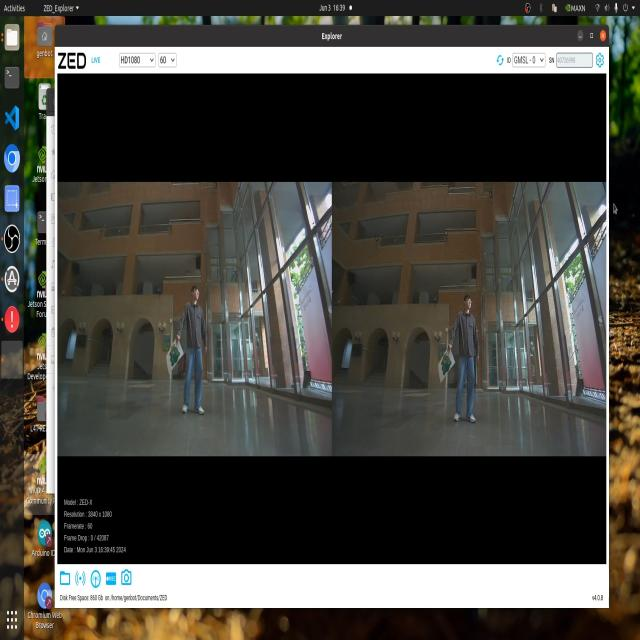green: (437, 346, 457, 381), (166, 341, 182, 372)
